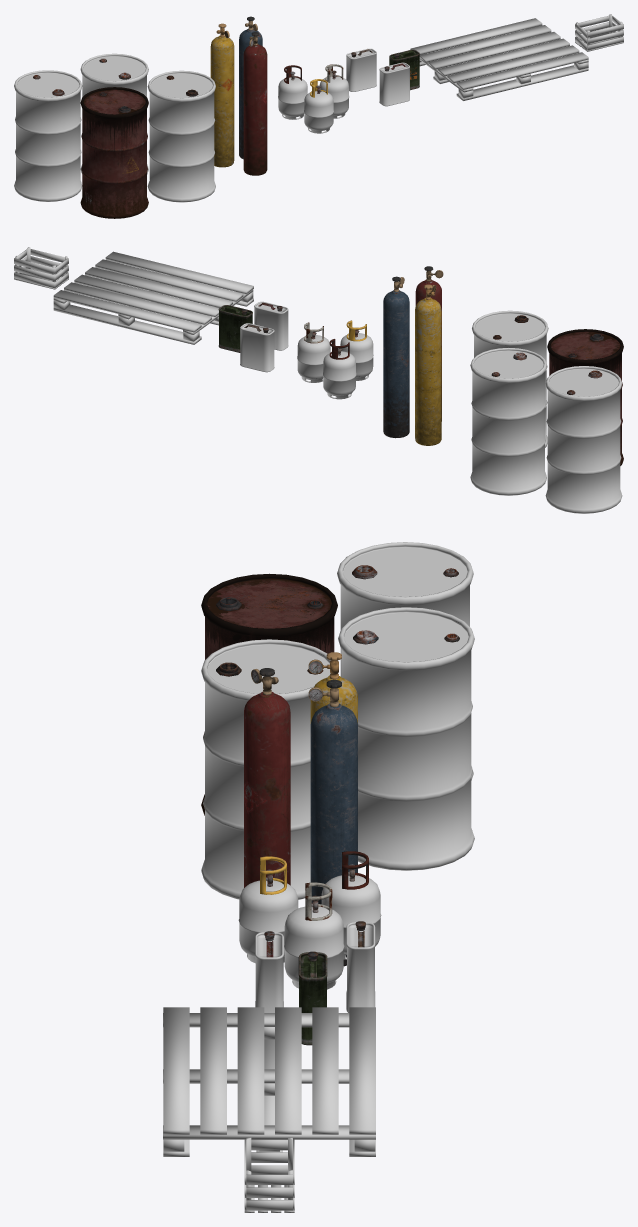
File: Industrial Pack.fbx
The picture shows the model from 3 angles, top to bottom: view 1: azimuth 30°, elevation 25°; view 2: azimuth 150°, elevation 25°; view 3: azimuth 270°, elevation 25°; orthographic projection. The views are drawn at different scales.
Parts seen in each view (by area): view 1: Cube.001, barrel, barrel4, barrel2, cylinder, cylinder3, barrel3, Cube.002, oil.can, oil.can3, cylinder.small1, cylinder.small3 (+3 smaller); view 2: Cube.001, barrel4, barrel3, cylinder2, cylinder3, barrel, barrel2, Cube.002, oil.can3, cylinder.small3, cylinder.small2, oil.can2 (+3 smaller); view 3: barrel3, Cube.001, barrel, barrel4, barrel2, cylinder, cylinder2, Cube.002, cylinder.small2, cylinder.small1, cylinder.small3, oil.can3 (+3 smaller).
Boxes of the visible parts, x1,y1,x2,y2 form: Cube.001: [410, 18, 588, 100]; barrel: [147, 70, 215, 202]; barrel4: [14, 70, 82, 201]; barrel2: [80, 87, 148, 218]; cylinder: [243, 44, 267, 175]; cylinder3: [210, 35, 234, 167]; barrel3: [80, 53, 148, 174]; Cube.002: [575, 14, 623, 51]; oil.can: [379, 62, 409, 106]; oil.can3: [346, 48, 376, 91]; cylinder.small1: [304, 91, 333, 133]; cylinder.small3: [278, 77, 307, 119]; Cube.001: [53, 251, 253, 344]; barrel4: [545, 366, 622, 513]; barrel3: [470, 348, 546, 495]; cylinder2: [383, 290, 409, 438]; cylinder3: [415, 298, 441, 445]; barrel: [472, 310, 548, 447]; barrel2: [547, 329, 623, 465]; Cube.002: [14, 247, 68, 289]; oil.can3: [240, 323, 274, 372]; cylinder.small3: [323, 351, 356, 399]; cylinder.small2: [297, 335, 330, 382]; oil.can2: [218, 305, 252, 352]; barrel3: [338, 607, 474, 870]; Cube.001: [163, 1007, 375, 1156]; barrel: [201, 639, 330, 899]; barrel4: [337, 542, 473, 780]; barrel2: [201, 573, 337, 815]; cylinder: [244, 691, 290, 887]; cylinder2: [310, 703, 357, 966]; Cube.002: [244, 1137, 294, 1212]; cylinder.small2: [284, 906, 344, 989]; cylinder.small1: [238, 880, 298, 963]; cylinder.small3: [321, 875, 381, 959]; oil.can3: [346, 922, 375, 1012].
Bounding box in the file's own units: 2863 × 670 × 684.
